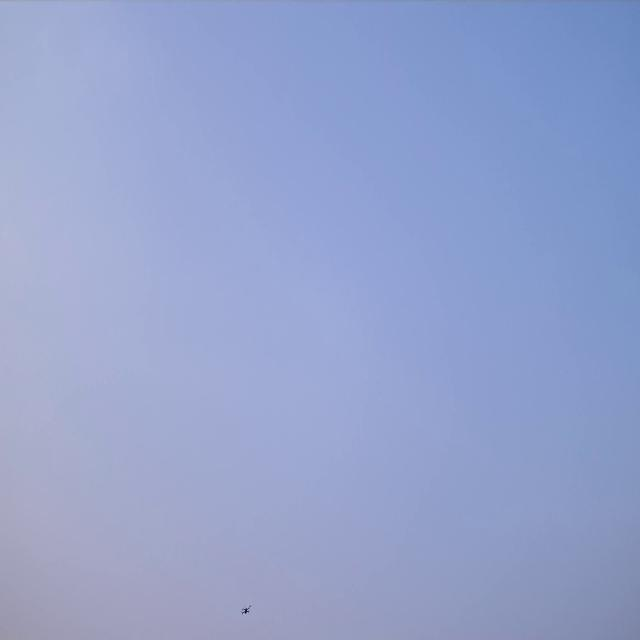UAV: (240, 604, 252, 616)
